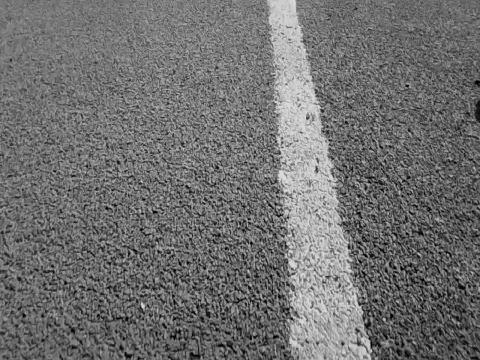Lines: (268, 0, 374, 360)
